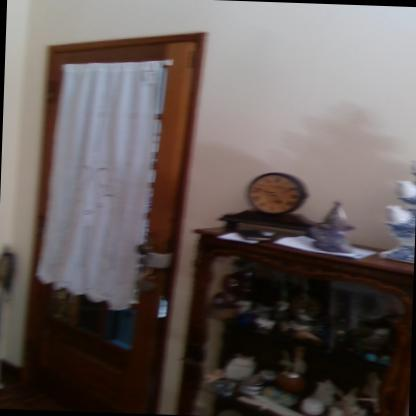closed: (14, 21, 216, 416)
